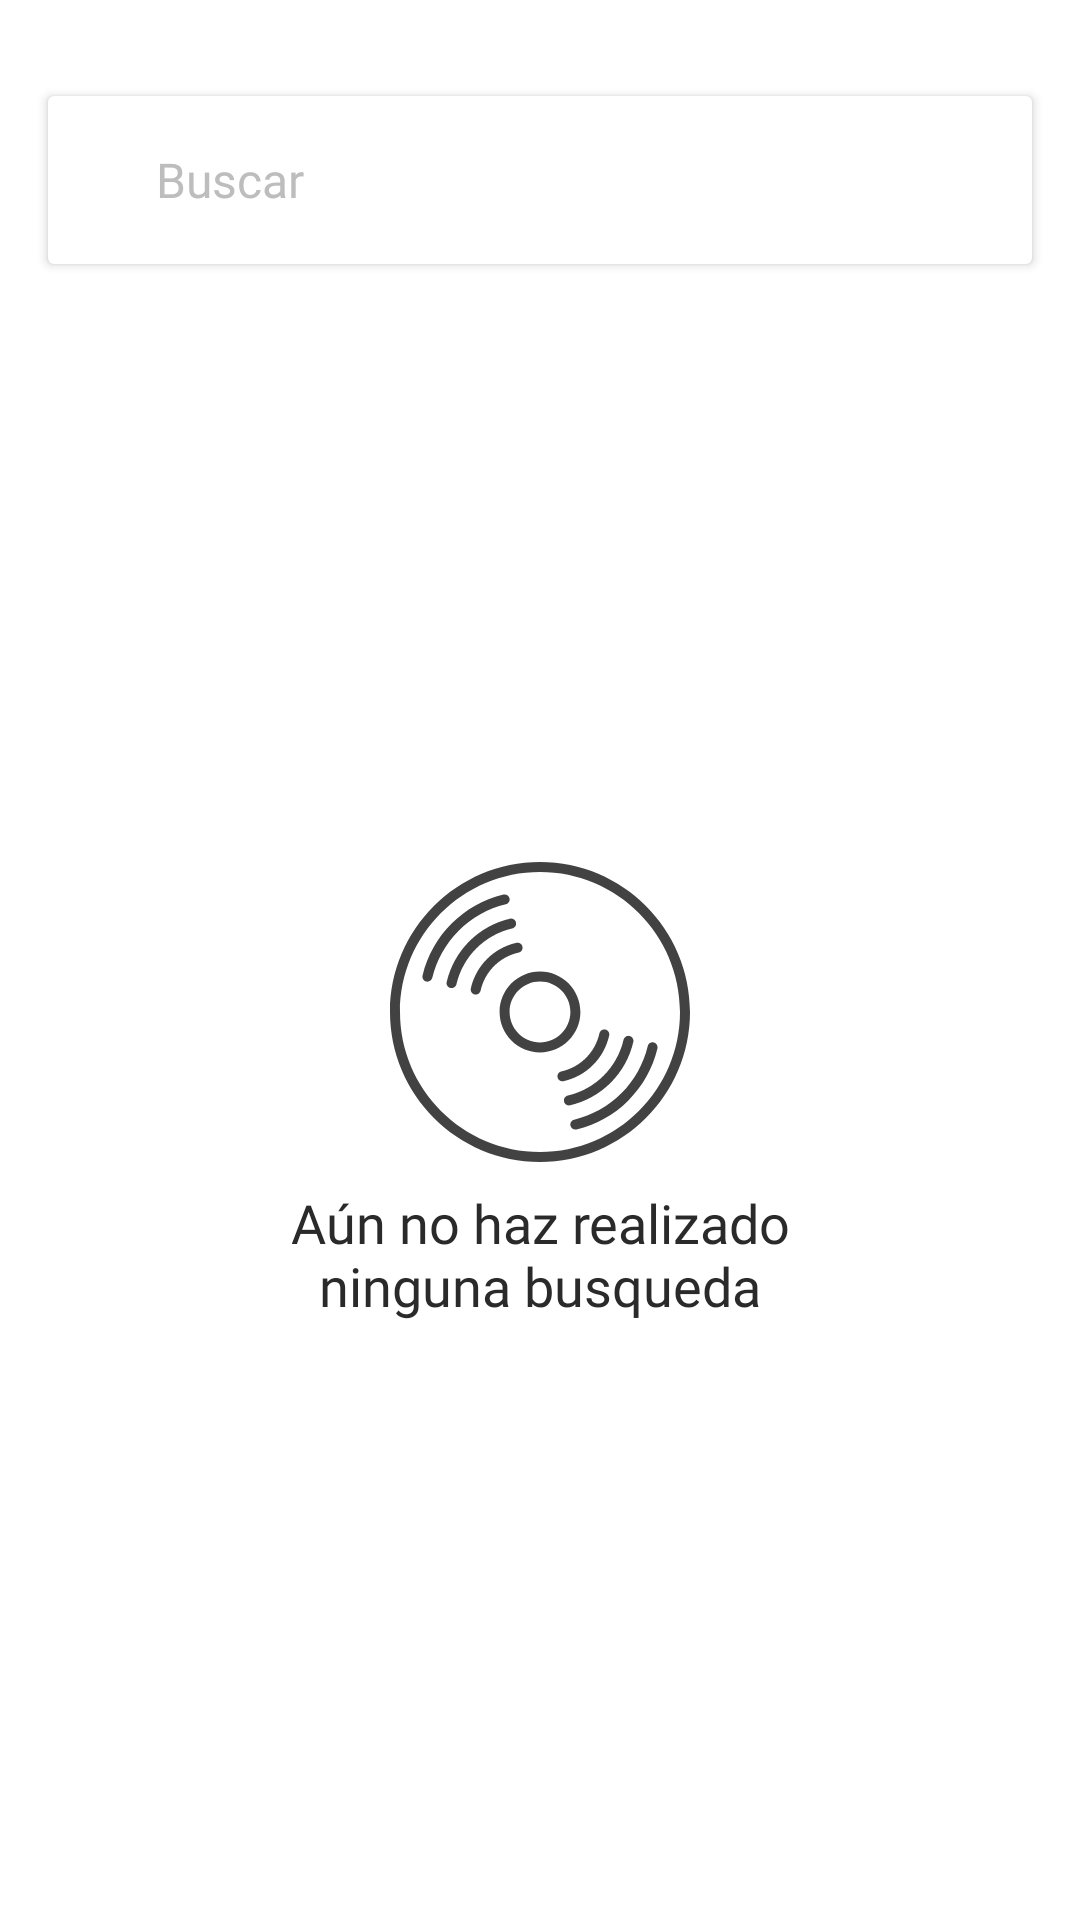

Icon click points for this 1080×1920 phone screenshot, format (x=x, y=y):
compact disc: (x=540, y=1012)
